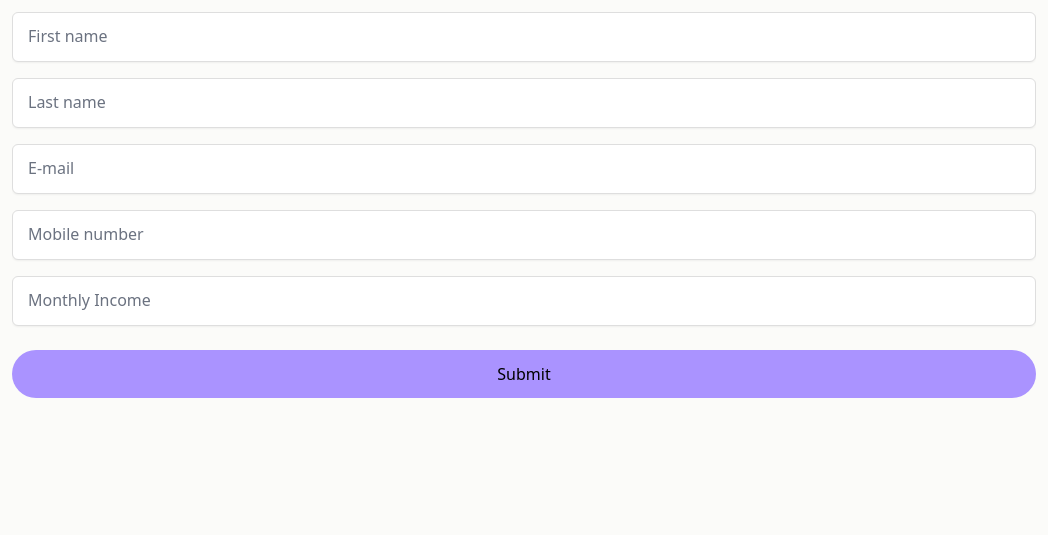
Scenario: LoanForm.vue › shows error messages for invalid form inputs and adds bg-red-500 class to inputs
The width and height of the screenshot is (1048, 535).
Clear the field with id "firstName" at (524, 37), box [12,12,1036,62]
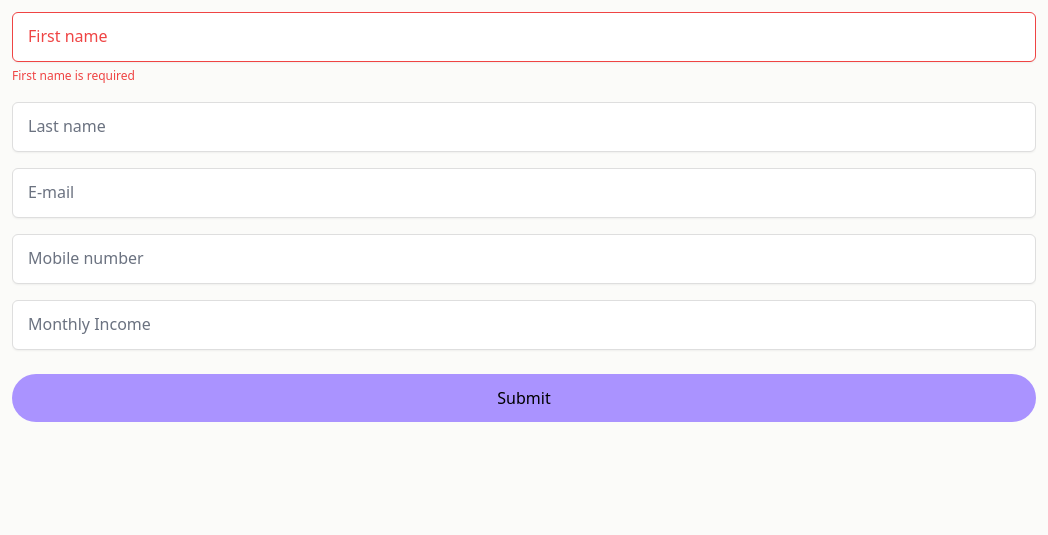
Expected: the text "First name is required" is shown, [12,67,135,84]
Clear the field with id "lastName" at (524, 127), box [12,102,1036,152]
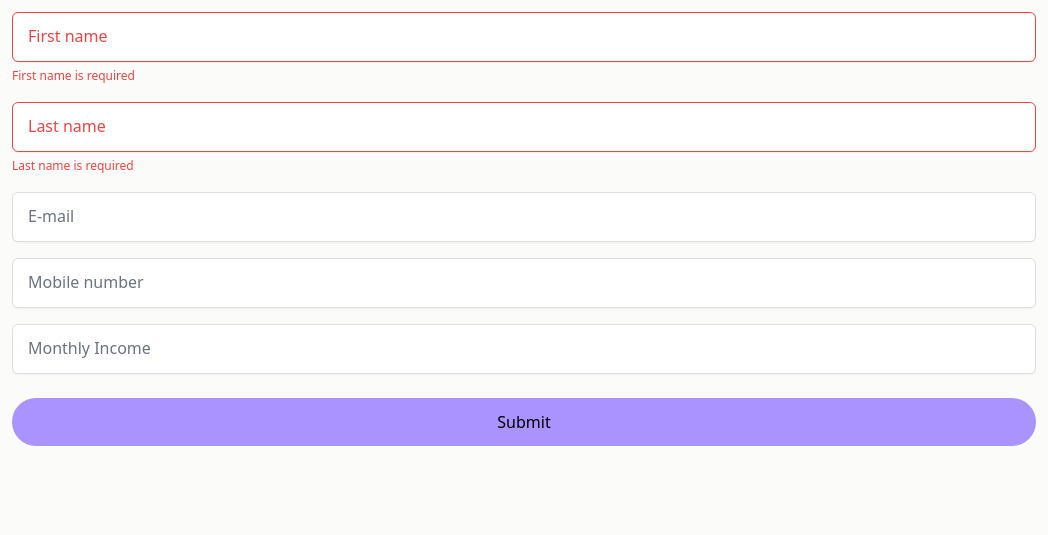
Expected: the text "Last name is required" is shown, [12,157,134,174]
Type "invalid-email" into the field with id "email" at (524, 217), box [12,192,1036,242]
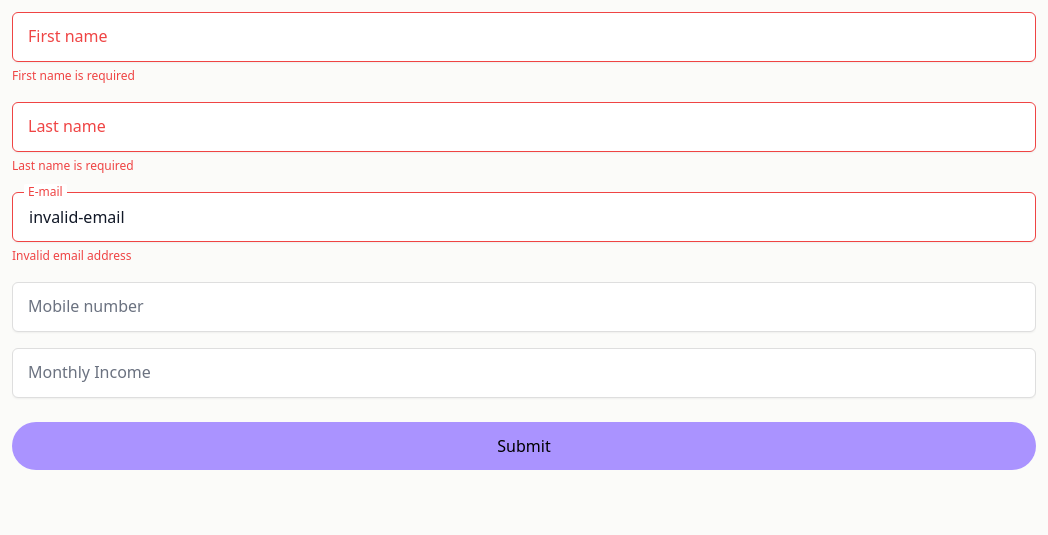
Expected: the text "Invalid email address" is shown, [12,247,132,264]
Type "555" into the field labelled "Mobile number" at (524, 307), box [12,282,1036,332]
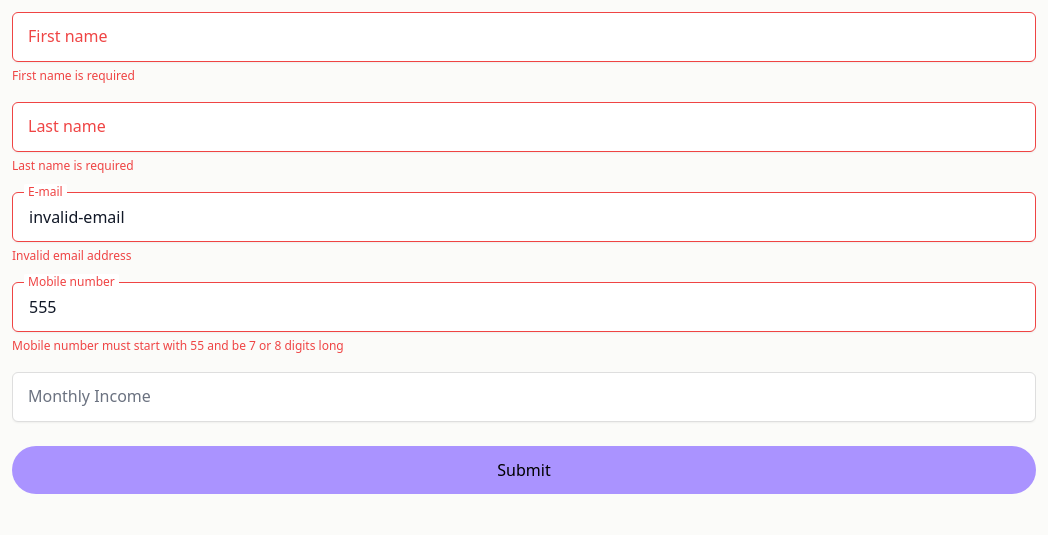
Expected: the text "Mobile number must start with 55 and be 7 or 8 digits long" is shown, [12,337,344,354]
Type "50" into the field with id "monthlyIncome" at (524, 397), box [12,372,1036,422]
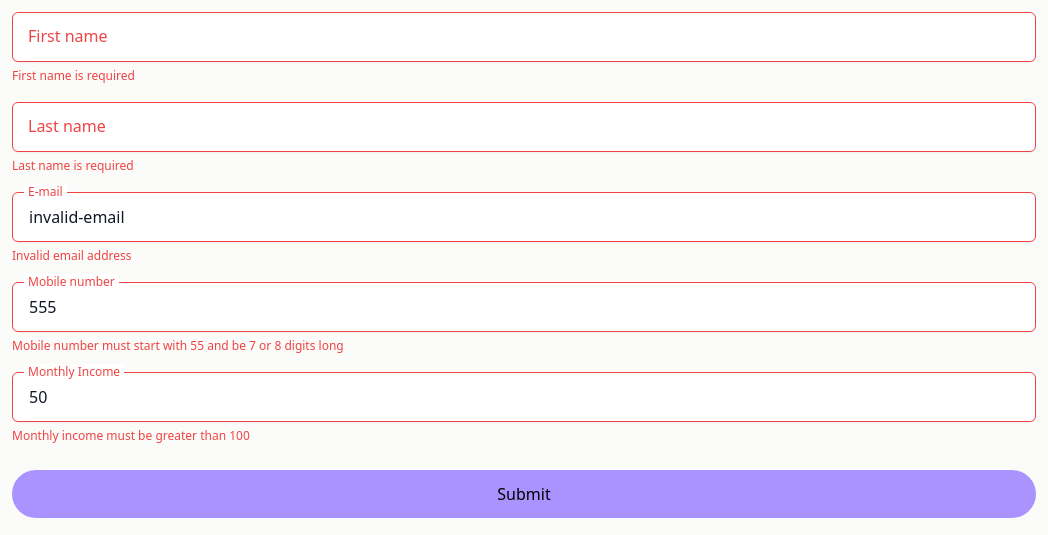
Expected: the text "Monthly income must be greater than 100" is shown, [12,427,250,444]
